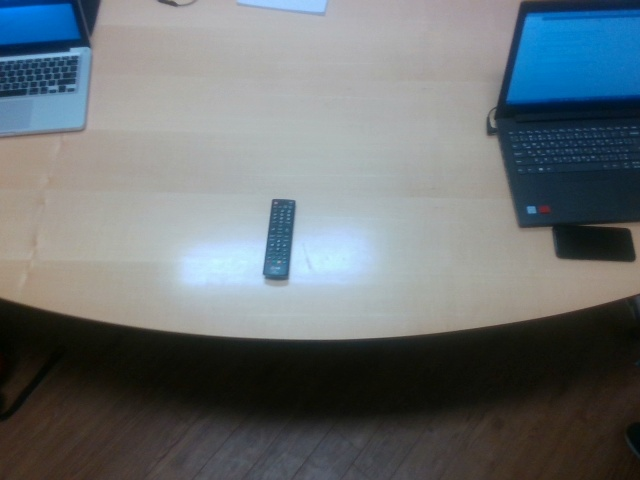remote: (262, 198, 294, 281)
